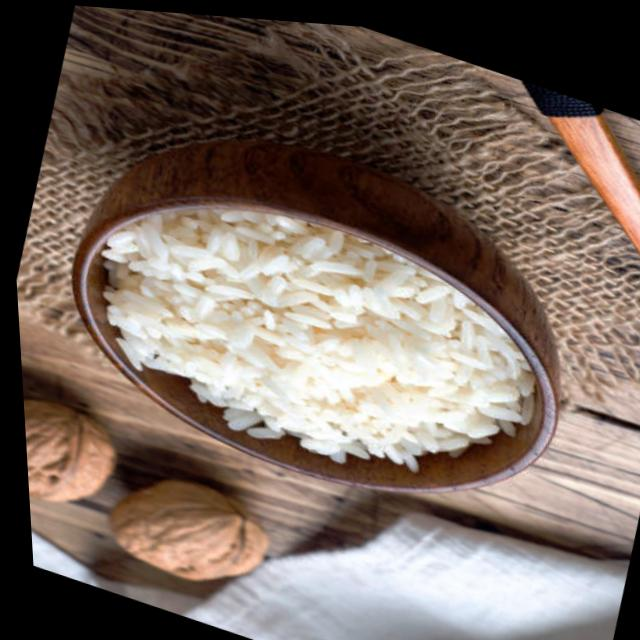rice: (59, 155, 568, 529)
